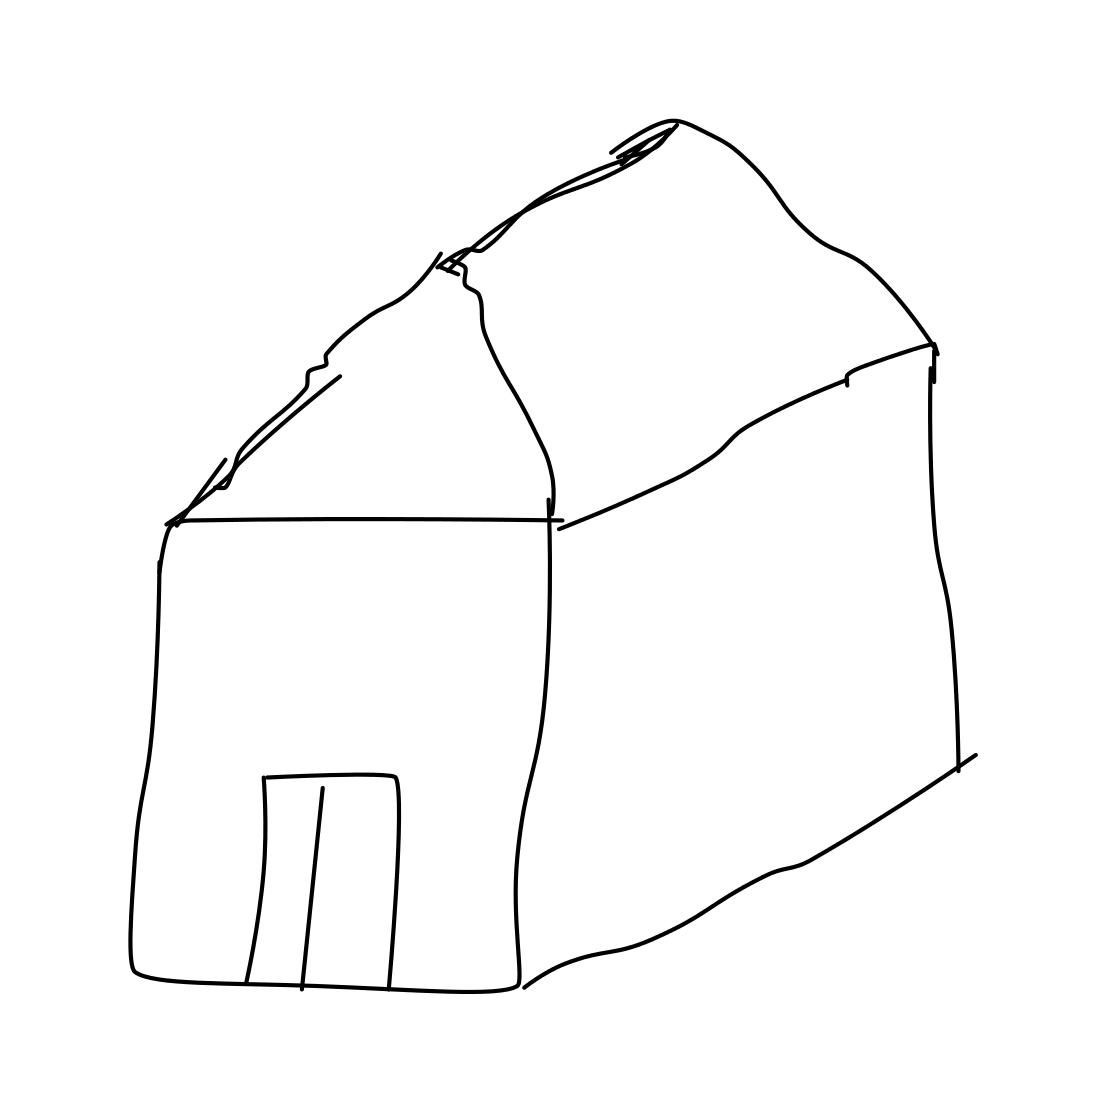House: (118, 87, 991, 1000)
